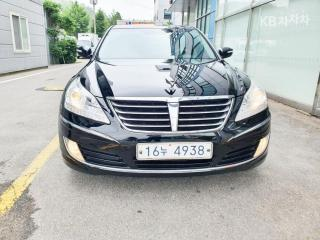1: (145, 146, 151, 158)
3: (190, 145, 197, 157)
4: (173, 145, 181, 158)
6: (152, 145, 160, 157)
8: (197, 144, 205, 156)
9: (180, 144, 189, 157)
plate: (131, 138, 218, 164)
누: (160, 144, 169, 157)
